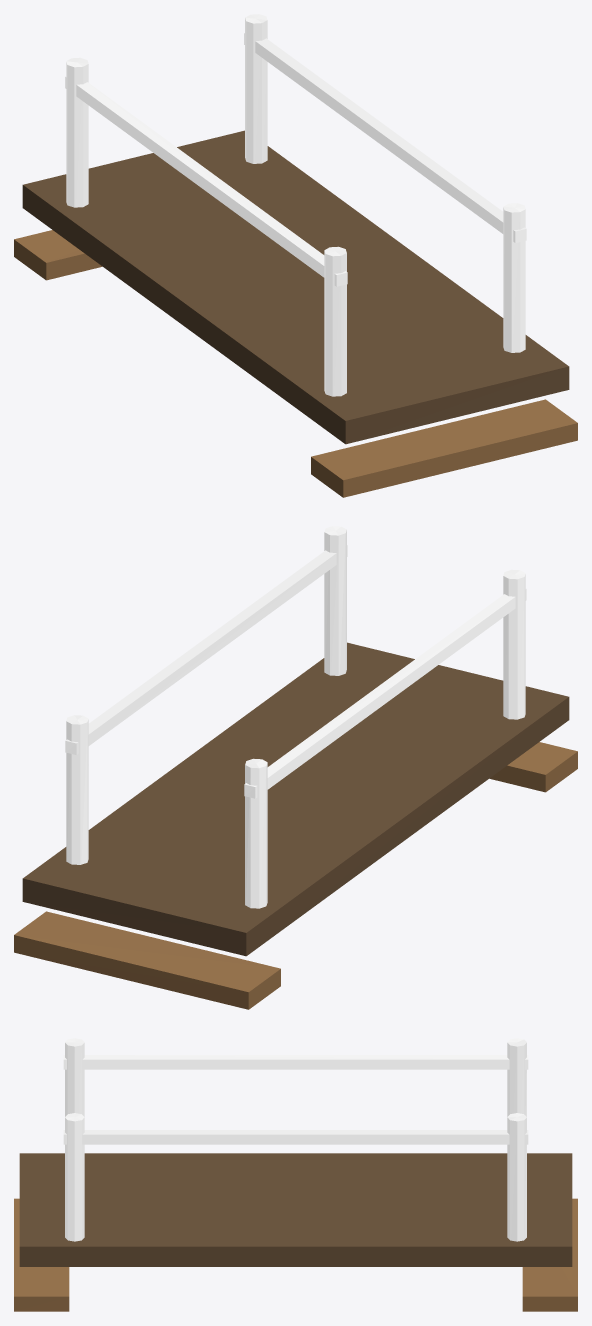
The model's file is footbridge.source.glb.
3 views of the same model, one above another, from view 1: azimuth 30°, elevation 25°; view 2: azimuth 150°, elevation 25°; view 3: azimuth 270°, elevation 25° (orthographic). The views are drawn at different scales.
Parts seen in each view (by area): view 1: footbridge-deck-mesh, footbridge-step-2.3-mesh, footbridge-rail--0.8-mesh, footbridge-rail-0.8-mesh, footbridge-post--0.8-2-mesh, footbridge-post-0.8-2-mesh, footbridge-post--0.8--2-mesh, footbridge-post-0.8--2-mesh, footbridge-step--2.3-mesh; view 2: footbridge-deck-mesh, footbridge-step--2.3-mesh, footbridge-rail--0.8-mesh, footbridge-rail-0.8-mesh, footbridge-post--0.8--2-mesh, footbridge-post-0.8--2-mesh, footbridge-post--0.8-2-mesh, footbridge-post-0.8-2-mesh, footbridge-step-2.3-mesh; view 3: footbridge-deck-mesh, footbridge-rail--0.8-mesh, footbridge-rail-0.8-mesh, footbridge-step--2.3-mesh, footbridge-step-2.3-mesh, footbridge-post-0.8--2-mesh, footbridge-post-0.8-2-mesh, footbridge-post--0.8--2-mesh, footbridge-post--0.8-2-mesh.
Part boxes in pixels (x1,y1,x2,y2): footbridge-deck-mesh: [22, 130, 569, 444]; footbridge-step-2.3-mesh: [311, 399, 577, 497]; footbridge-rail--0.8-mesh: [65, 76, 347, 286]; footbridge-rail-0.8-mesh: [244, 33, 526, 242]; footbridge-post--0.8-2-mesh: [324, 246, 346, 396]; footbridge-post-0.8-2-mesh: [503, 203, 525, 352]; footbridge-post--0.8--2-mesh: [66, 57, 88, 207]; footbridge-post-0.8--2-mesh: [245, 14, 267, 163]; footbridge-step--2.3-mesh: [14, 230, 102, 280]; footbridge-deck-mesh: [22, 642, 569, 956]; footbridge-step--2.3-mesh: [14, 911, 280, 1009]; footbridge-rail--0.8-mesh: [244, 588, 526, 798]; footbridge-rail-0.8-mesh: [65, 545, 347, 754]; footbridge-post--0.8--2-mesh: [245, 758, 267, 908]; footbridge-post-0.8--2-mesh: [66, 715, 88, 864]; footbridge-post--0.8-2-mesh: [503, 569, 525, 719]; footbridge-post-0.8-2-mesh: [324, 526, 346, 675]; footbridge-step-2.3-mesh: [489, 742, 577, 792]; footbridge-deck-mesh: [19, 1153, 572, 1266]; footbridge-rail--0.8-mesh: [63, 1055, 528, 1069]; footbridge-rail-0.8-mesh: [63, 1130, 528, 1144]; footbridge-step--2.3-mesh: [522, 1198, 577, 1311]; footbridge-step-2.3-mesh: [14, 1198, 69, 1311]; footbridge-post-0.8--2-mesh: [507, 1113, 526, 1241]; footbridge-post-0.8-2-mesh: [65, 1113, 84, 1241]; footbridge-post--0.8--2-mesh: [507, 1038, 526, 1116]; footbridge-post--0.8-2-mesh: [65, 1038, 84, 1116].
Bounding box in the file's own units: 2.1 × 1.82 × 5.1.
